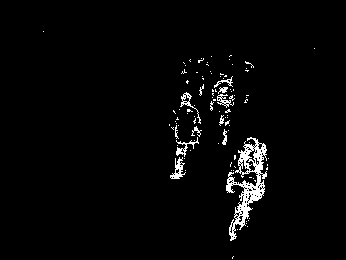person: (169, 91, 202, 180), (208, 67, 236, 147)
